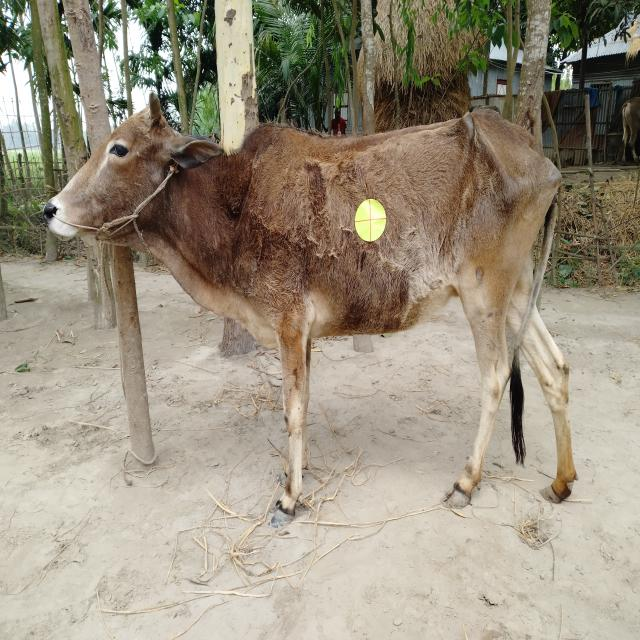badan_sapi: (242, 132, 564, 338)
sapi: (36, 79, 600, 528)
